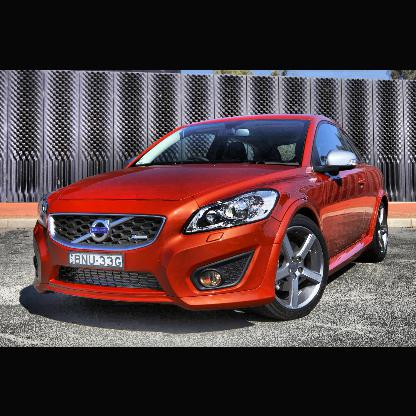Volvo C30 Hatchback 2012: (29, 111, 395, 322)
